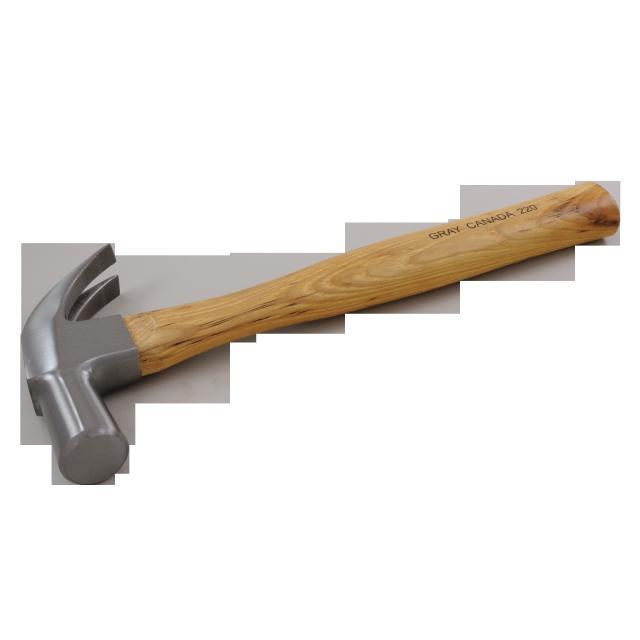hammer: (13, 168, 625, 492)
